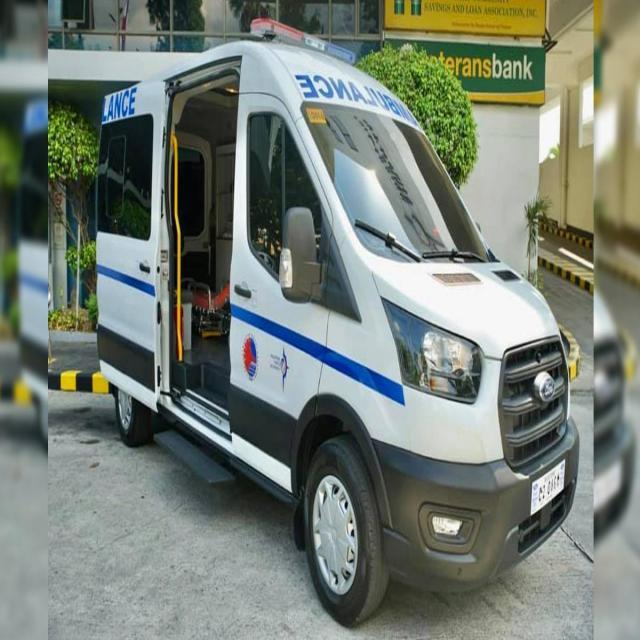emergency-vehicle: (88, 8, 590, 612)
